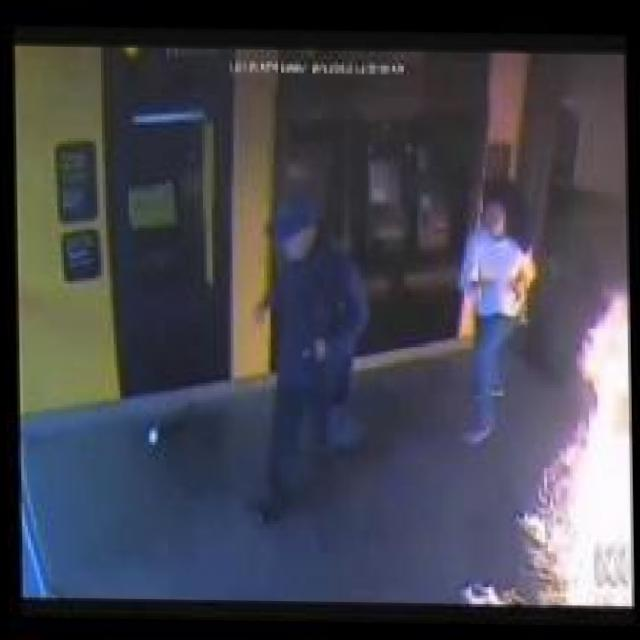fire: (460, 268, 630, 610)
